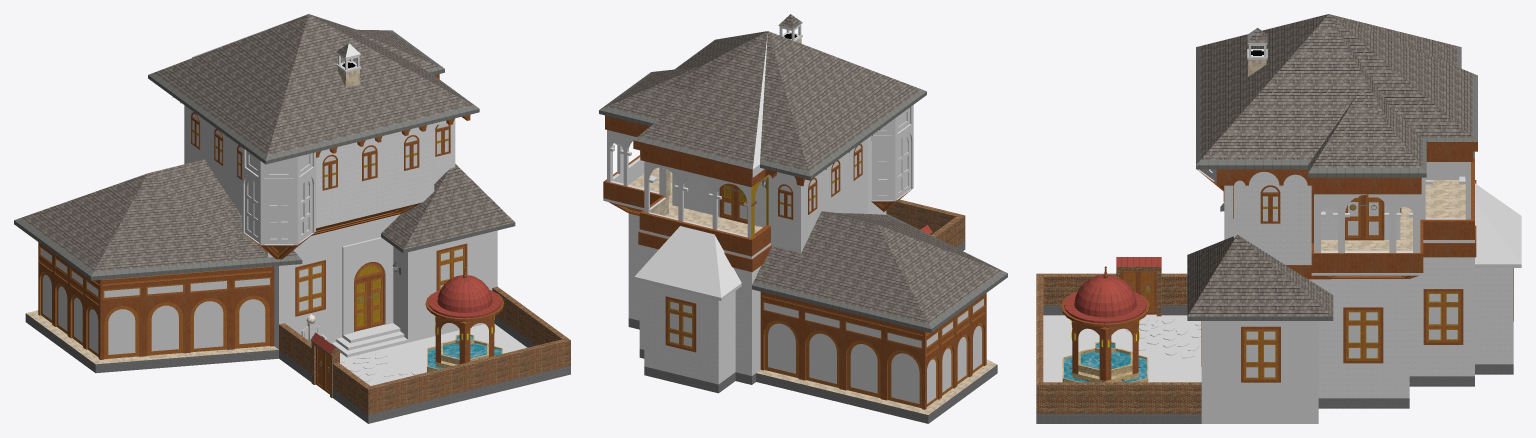
The picture shows the model from 3 angles, left to right: view 1: azimuth 30°, elevation 25°; view 2: azimuth 150°, elevation 25°; view 3: azimuth 270°, elevation 25°; orthographic projection. The views are drawn at different scales.
Visible parts, largest first — view 1: _(Loose Entity), G-Object.001, G-Object; view 2: _(Loose Entity), G-Object; view 3: _(Loose Entity), G-Object.001, G-Object.
Boxes of the visible parts, x1,y1,x2,y2 form: _(Loose Entity): (14,14,570,423); G-Object.001: (425,266,504,372); G-Object: (336,43,361,87); _(Loose Entity): (599,31,1007,423); G-Object: (778,14,802,43); _(Loose Entity): (1036,14,1521,423); G-Object.001: (1061,266,1149,382); G-Object: (1247,28,1267,76).
Bounding box in the file's own units: 24.47 × 18.65 × 24.37.
Materials: 22 (16 with a texture image).
